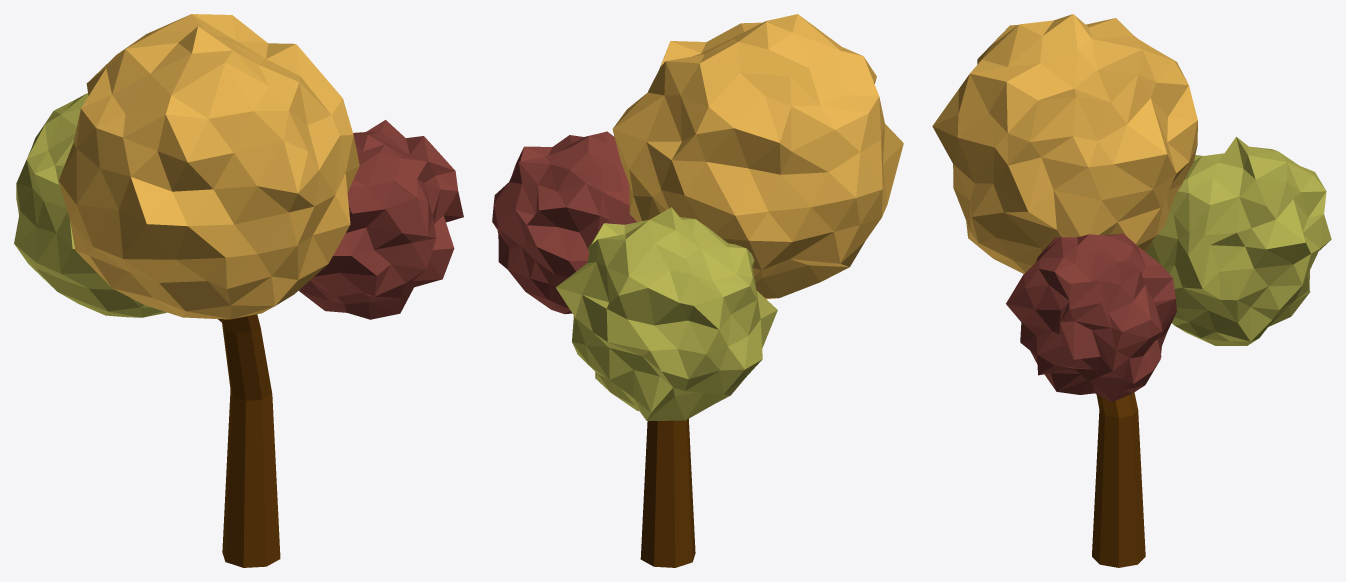
Rendered from treeAutumn2.gltf.
3 renders of one model, left to right at view 1: azimuth 30°, elevation 25°; view 2: azimuth 150°, elevation 25°; view 3: azimuth 270°, elevation 25°, orthographic. The views are drawn at different scales.
Visible parts, largest first — view 1: Icosphere, Icosphere.002, Circle, Icosphere.001; view 2: Icosphere, Icosphere.001, Icosphere.002, Circle; view 3: Icosphere, Icosphere.001, Icosphere.002, Circle.
Boxes of the visible parts, x1,y1,x2,y2 form: Icosphere: (58,14,359,319); Icosphere.002: (299,120,463,319); Circle: (218,314,280,567); Icosphere.001: (14,93,166,317); Icosphere: (612,14,903,299); Icosphere.001: (555,207,777,420); Icosphere.002: (492,131,636,314); Circle: (640,419,695,567); Icosphere: (932,14,1197,273); Icosphere.001: (1146,136,1331,345); Icosphere.002: (1006,233,1176,402); Circle: (1092,392,1145,567).
Size of the model in its own units: 14.91 by 20.81 by 14.82.
